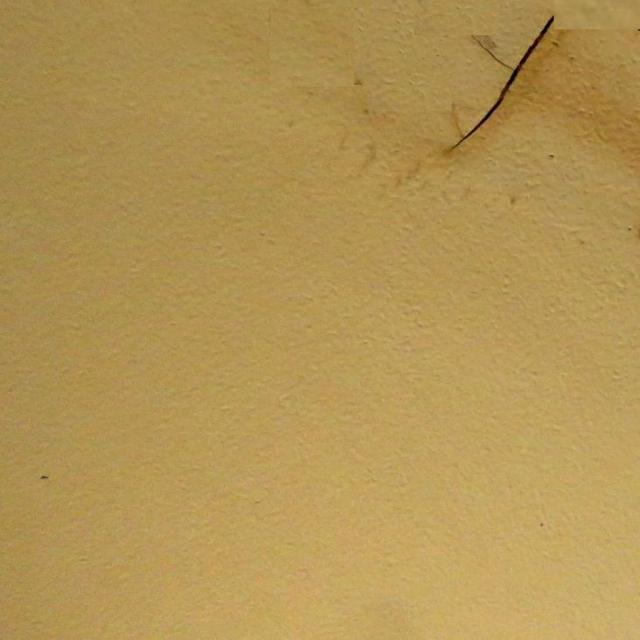crack: (452, 17, 557, 144)
